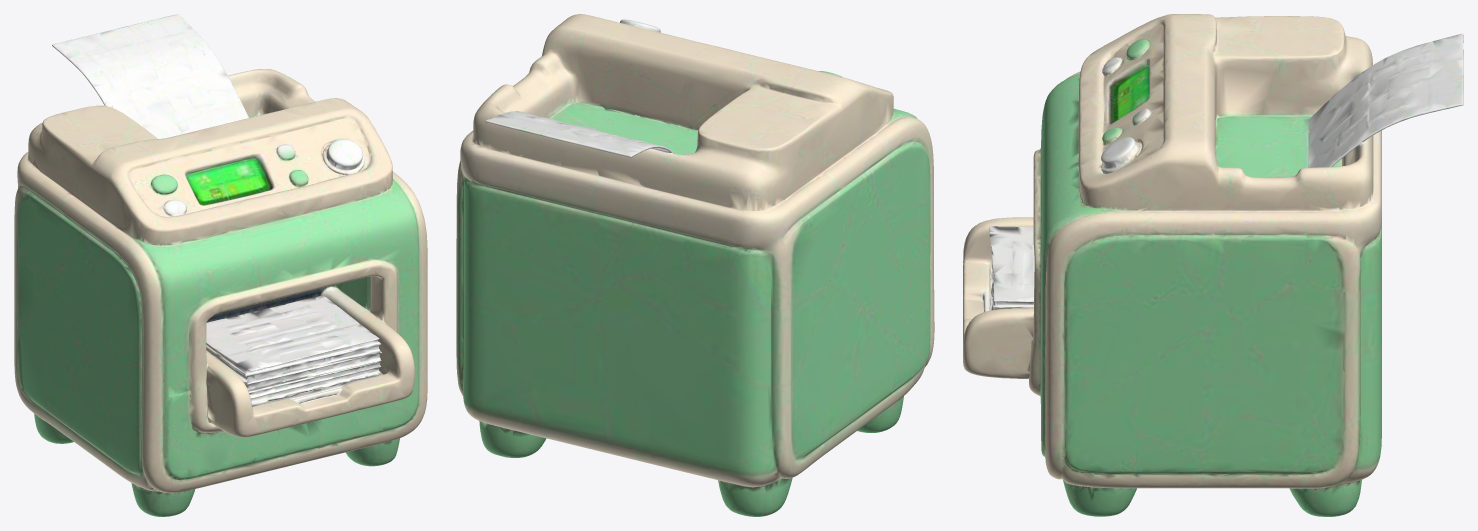
Rendered from printer.glb.
3 renders of one model, left to right at view 1: azimuth 30°, elevation 25°; view 2: azimuth 150°, elevation 25°; view 3: azimuth 270°, elevation 25°, orthographic. The views are drawn at different scales.
Size of the model in its own units: 1.44 by 1.62 by 1.9.
Materials: 1 (1 with a texture image).
